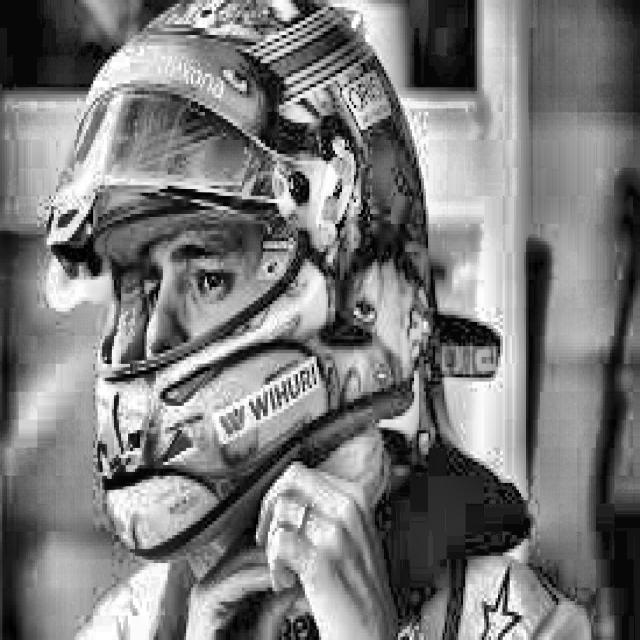Helmet: (39, 0, 477, 554)
